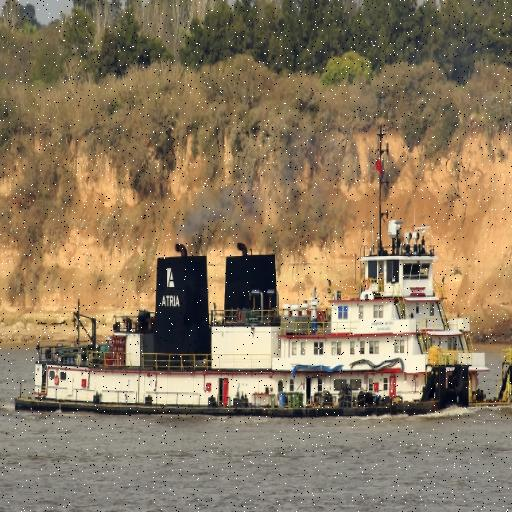tugboat: (12, 121, 512, 429)
